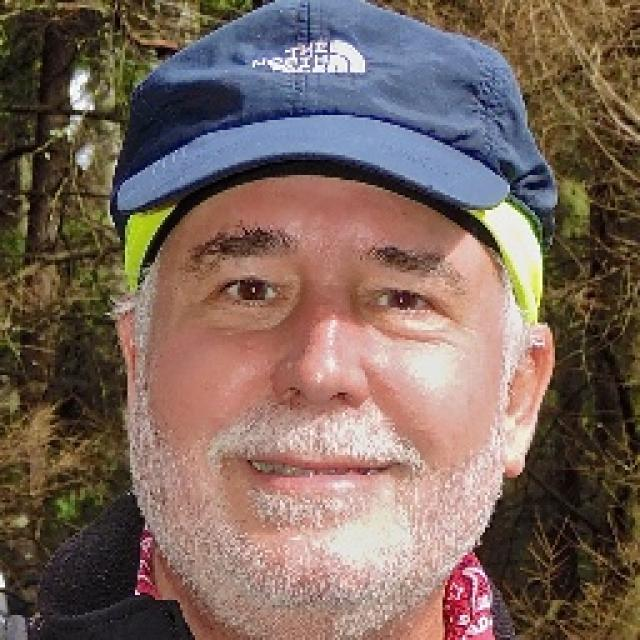earlobe: (499, 320, 554, 480), (112, 312, 140, 418)
